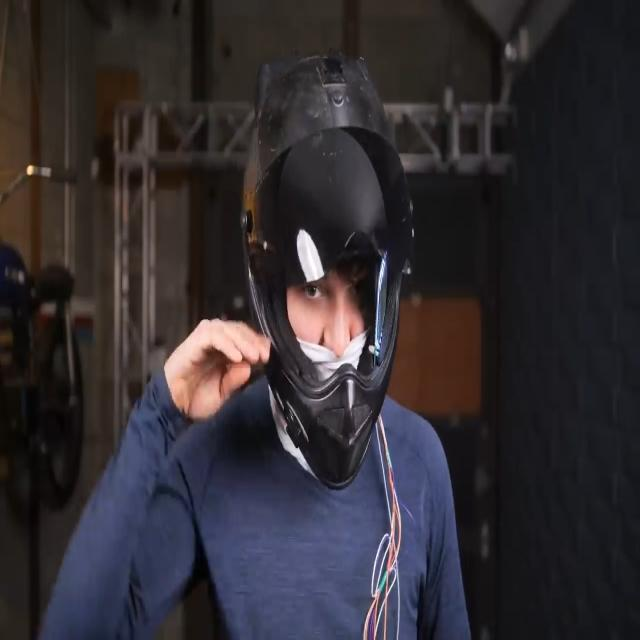Helmet_Wearer: (242, 55, 403, 480)
Person: (49, 61, 521, 640)
